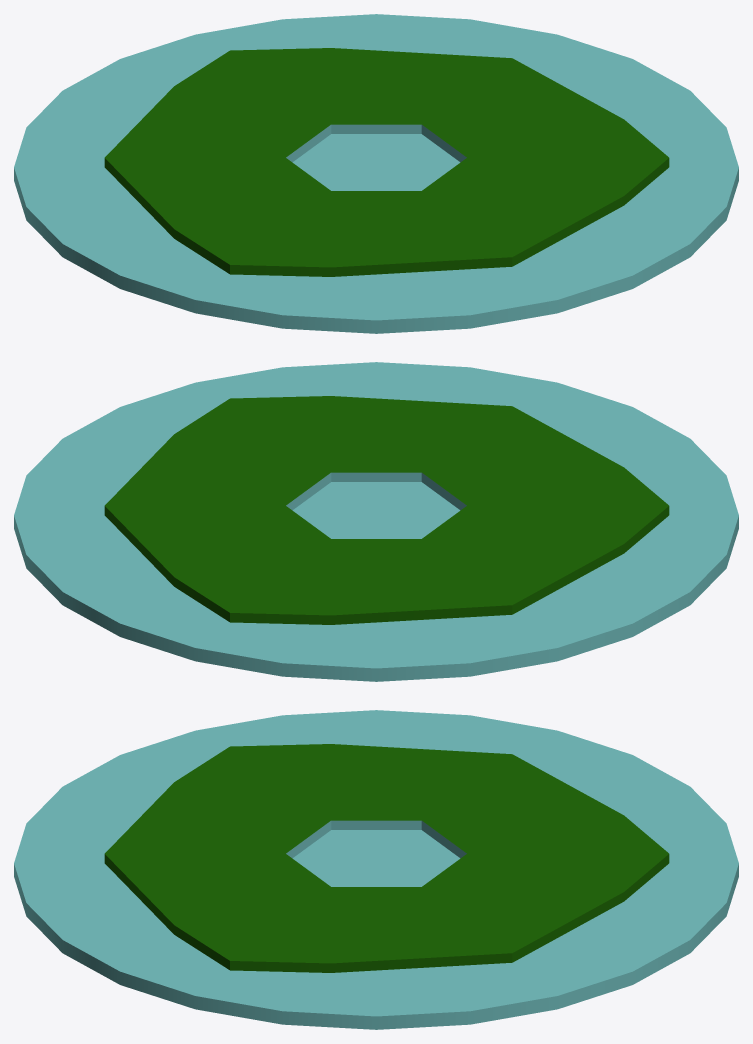
The model's file is shieldslashcard.fbx.
The picture shows the model from 3 angles, top to bottom: view 1: azimuth 30°, elevation 25°; view 2: azimuth 150°, elevation 25°; view 3: azimuth 270°, elevation 25°; orthographic projection.
Visible parts, largest first — view 1: pDisc1; view 2: pDisc1; view 3: pDisc1.
Boxes of the visible parts, bbox=[...] form: pDisc1: bbox=[14, 14, 738, 333]; pDisc1: bbox=[14, 362, 738, 681]; pDisc1: bbox=[14, 710, 738, 1029].
Size of the model in its own units: 2 by 0.4365 by 2.
